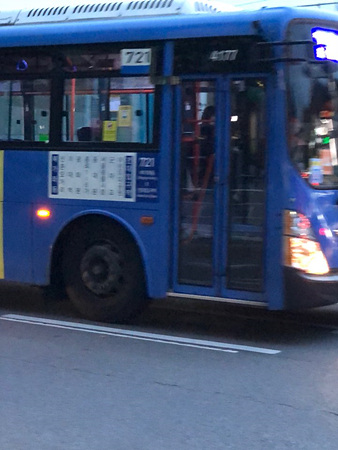entrance: (171, 69, 274, 306)
